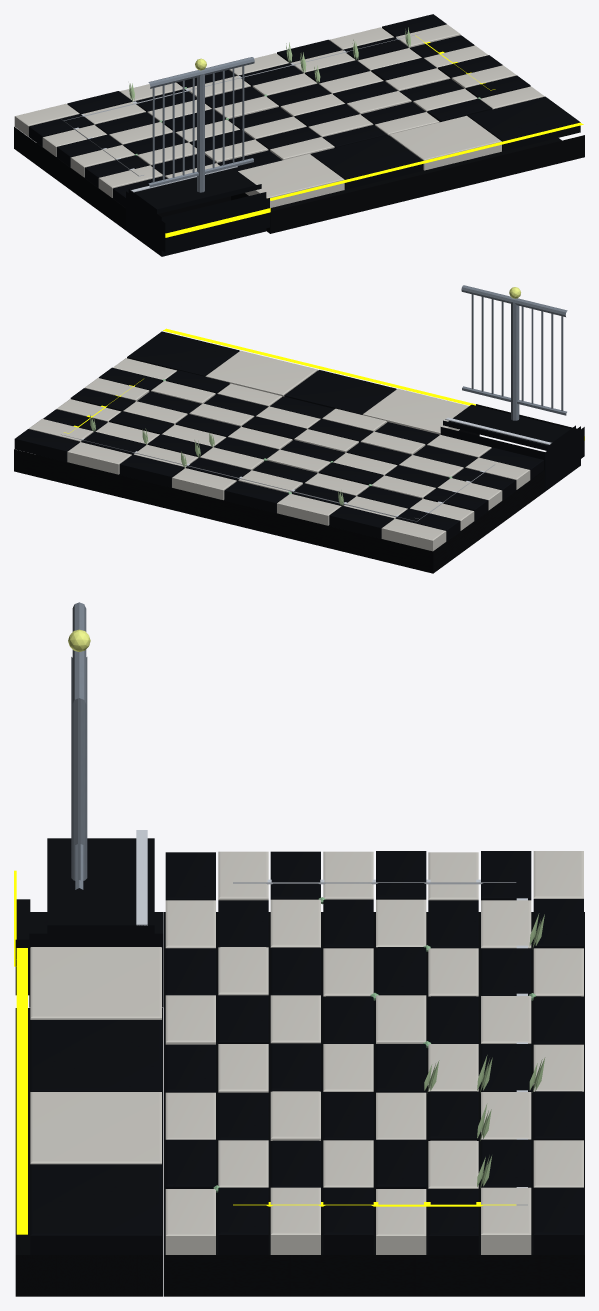
File: tt_terrace_edge_open_cs_b.glb
The picture shows the model from 3 angles, top to bottom: view 1: azimuth 30°, elevation 25°; view 2: azimuth 150°, elevation 25°; view 3: azimuth 270°, elevation 25°; orthographic projection. The views are drawn at different scales.
Visible parts, largest first — view 1: Pavers_B, Pavers_A, Threshold_Slab, Coping_Kerb, Pavers_B_T, Pavers_A_T, Guard_Frame, Deck_Slab, Threshold_Amber, Court_Strips_White, Coping_Line, Joint_Tufts; view 2: Pavers_B, Pavers_A, Deck_Slab, Pavers_B_T, Pavers_A_T, Coping_Kerb, Guard_Frame, Threshold_Amber, Court_Strips_White, Joint_Tufts, Coping_Court_Line; view 3: Pavers_B, Pavers_A, Deck_Slab, Pavers_B_T, Pavers_A_T, Coping_Kerb, Threshold_Slab, Guard_Frame, Threshold_Amber, Joint_Tufts, Coping_Court_Line.
Boxes of the visible parts, x1,y1,x2,y2 form: Pavers_B: [28, 14, 530, 207]; Pavers_A: [14, 24, 544, 197]; Threshold_Slab: [231, 135, 584, 233]; Coping_Kerb: [126, 168, 269, 256]; Pavers_B_T: [310, 96, 580, 189]; Pavers_A_T: [238, 115, 501, 207]; Guard_Frame: [148, 57, 254, 192]; Deck_Slab: [14, 127, 248, 230]; Threshold_Amber: [270, 122, 583, 200]; Court_Strips_White: [61, 34, 419, 176]; Coping_Line: [165, 208, 270, 237]; Joint_Tufts: [129, 27, 410, 101]; Pavers_B: [14, 367, 543, 540]; Pavers_A: [29, 358, 530, 551]; Deck_Slab: [14, 449, 544, 573]; Pavers_B_T: [127, 331, 396, 414]; Pavers_A_T: [205, 350, 468, 435]; Coping_Kerb: [440, 404, 584, 491]; Guard_Frame: [461, 285, 567, 420]; Threshold_Amber: [163, 328, 475, 405]; Court_Strips_White: [61, 434, 495, 521]; Joint_Tufts: [90, 415, 343, 505]; Coping_Court_Line: [445, 417, 551, 444]; Pavers_B: [165, 851, 583, 1254]; Pavers_A: [165, 851, 583, 1254]; Deck_Slab: [164, 912, 584, 1296]; Pavers_B_T: [30, 1020, 161, 1254]; Pavers_A_T: [30, 947, 161, 1164]; Coping_Kerb: [15, 838, 163, 1007]; Threshold_Slab: [15, 1008, 163, 1296]; Guard_Frame: [71, 602, 87, 889]; Threshold_Amber: [16, 948, 27, 1234]; Joint_Tufts: [424, 913, 545, 1188]; Coping_Court_Line: [136, 830, 147, 925].
Size of what is drawn, in the model's own units: 4 by 1.6 by 2.51.
9 materials, 4 textured.
